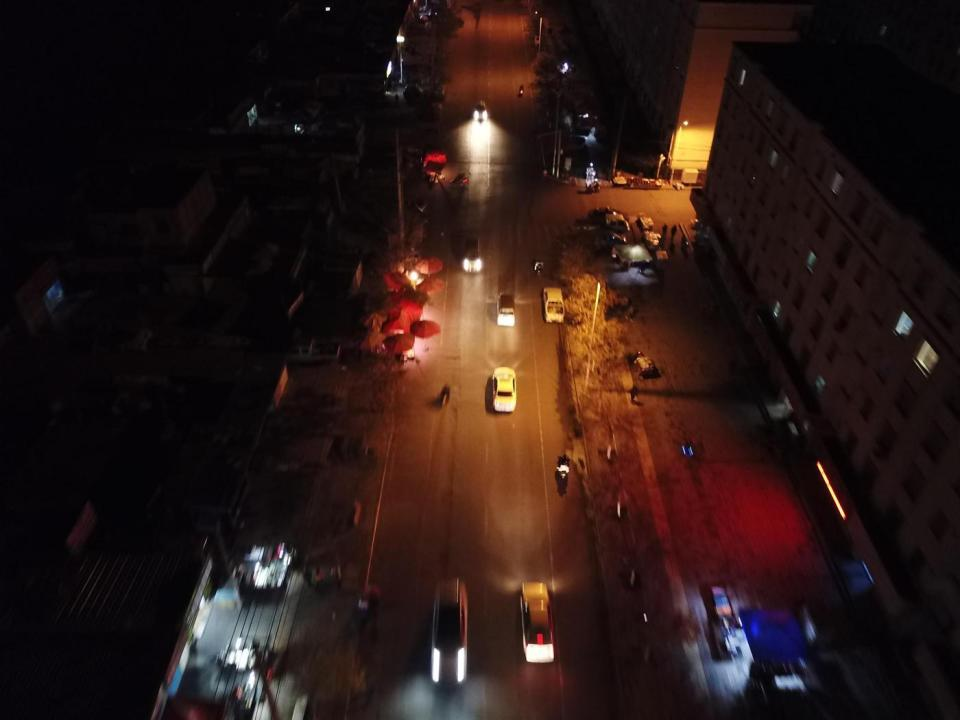car: (431, 578, 467, 690), (520, 582, 555, 664), (493, 368, 516, 413), (588, 206, 630, 224), (462, 236, 480, 273), (594, 231, 626, 249), (474, 100, 488, 122), (403, 84, 422, 98), (418, 9, 432, 18)
truck: (740, 604, 818, 706), (708, 586, 743, 658), (288, 338, 340, 366), (575, 213, 630, 234), (634, 351, 654, 377)
van: (543, 287, 564, 322), (396, 196, 430, 215), (496, 294, 515, 325)
